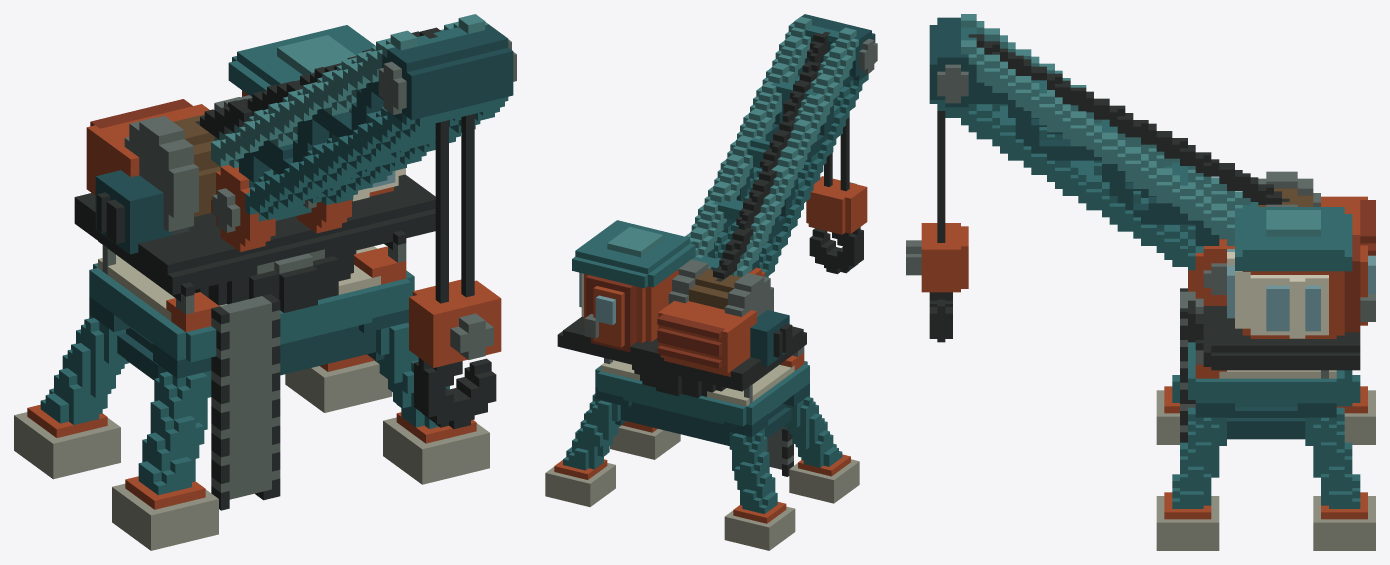
File: cargo_crane.glb
The picture shows the model from 3 angles, left to right: view 1: azimuth 30°, elevation 25°; view 2: azimuth 150°, elevation 25°; view 3: azimuth 270°, elevation 25°; orthographic projection. The views are drawn at different scales.
Visible parts, largest first — view 1: cargo_crane; view 2: cargo_crane; view 3: cargo_crane.
Boxes of the visible parts, x1,y1,x2,y2 form: cargo_crane: [14, 14, 516, 550]; cargo_crane: [545, 14, 877, 550]; cargo_crane: [906, 14, 1375, 550].
Bounding box in the file's own units: 5.6 × 8.96 × 8.4.
